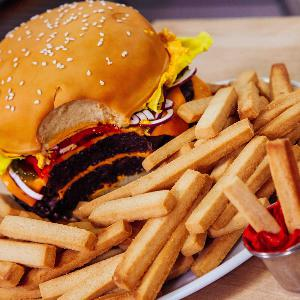cheeseburger: (2, 4, 183, 152)
fries: (177, 81, 299, 276)
